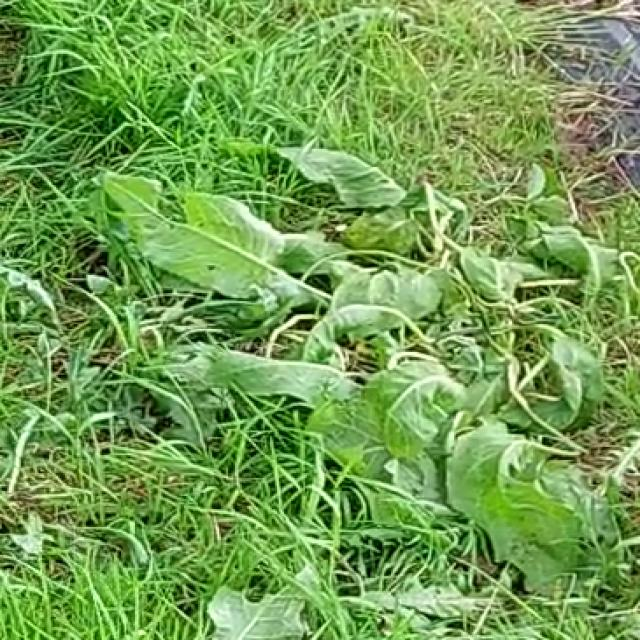organic waste: (130, 98, 594, 473)
